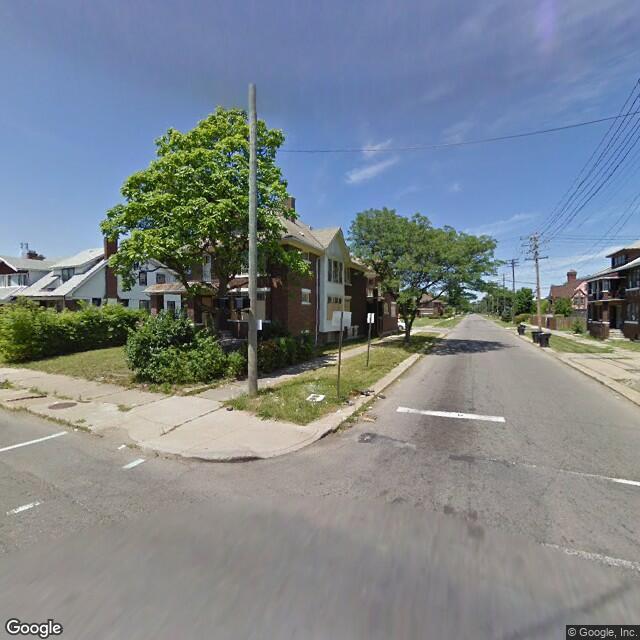litter: (349, 387, 372, 396), (376, 391, 385, 400), (72, 426, 82, 433), (171, 392, 178, 399)
